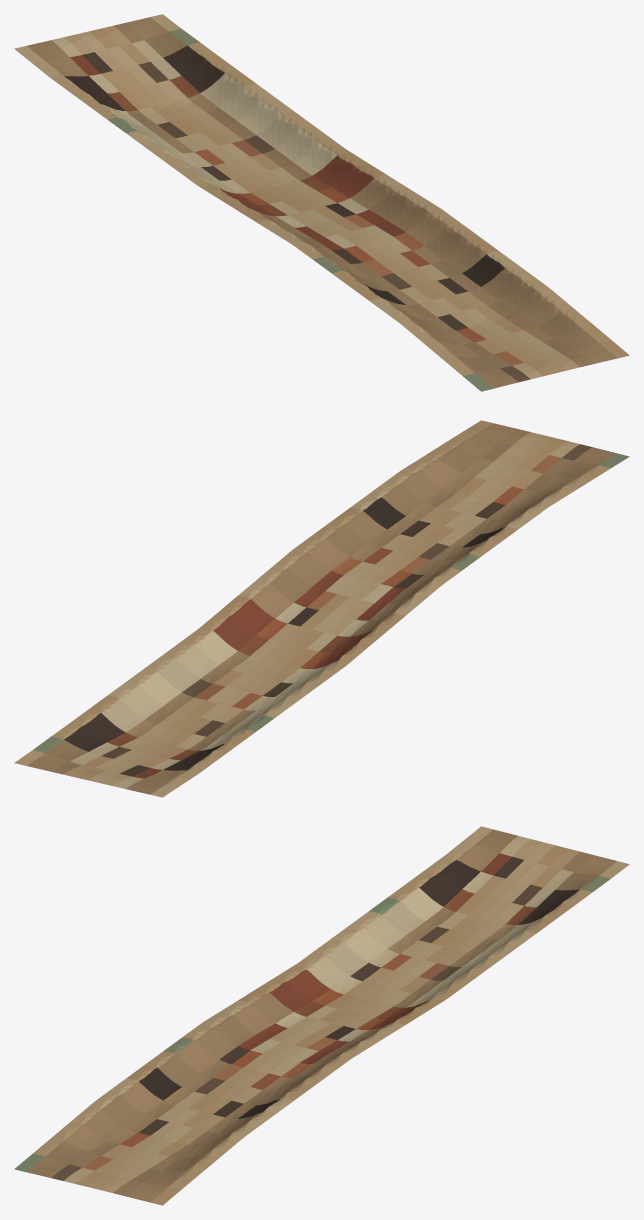
The model's file is liner_bench_run_wash.glb.
The picture shows the model from 3 angles, top to bottom: view 1: azimuth 30°, elevation 25°; view 2: azimuth 150°, elevation 25°; view 3: azimuth 330°, elevation 25°; orthographic projection.
Visible parts, largest first — view 1: liner_bench_run_wash_body; view 2: liner_bench_run_wash_body; view 3: liner_bench_run_wash_body.
Part boxes in pixels (x1,y1,x2,y2): liner_bench_run_wash_body: (14, 14, 629, 391); liner_bench_run_wash_body: (14, 420, 629, 797); liner_bench_run_wash_body: (14, 826, 629, 1205).
Bounding box in the file's own units: 36 × 6.6 × 196.
